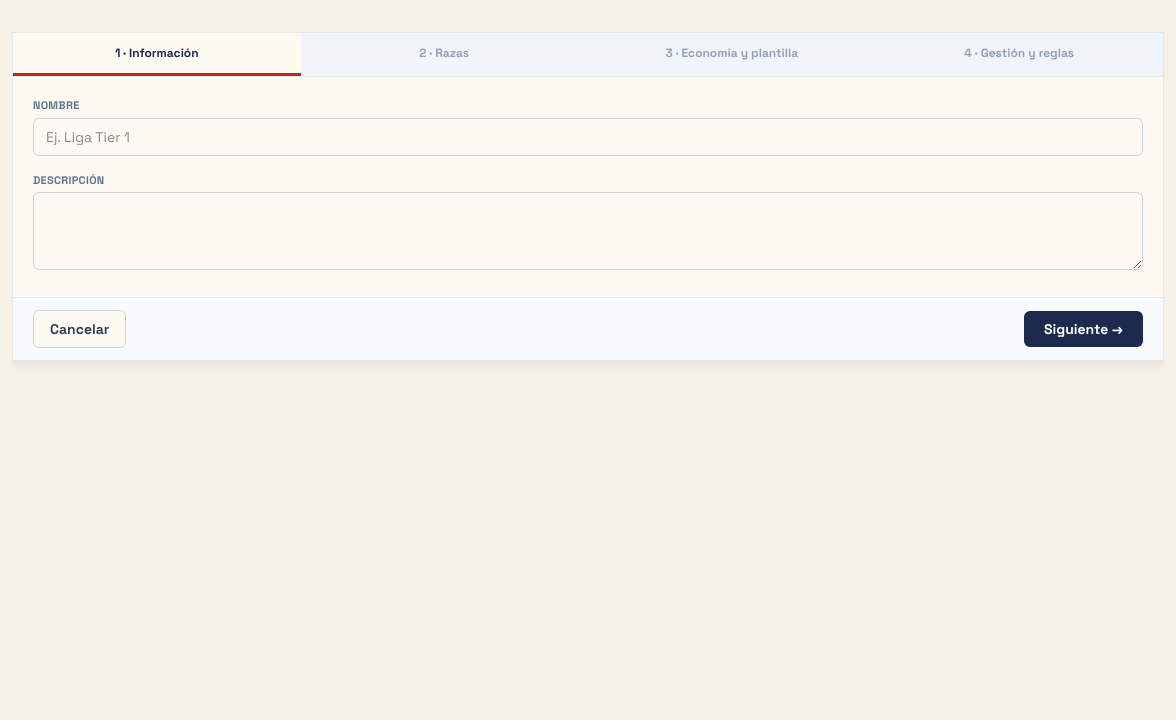
Test: RulesetEditor › create mode can go back with ← Atrás and keeps the draft
Step 1. Type "Liga Tier 1" into the field labelled "Nombre" → (588, 136), box [33,118,1143,156]
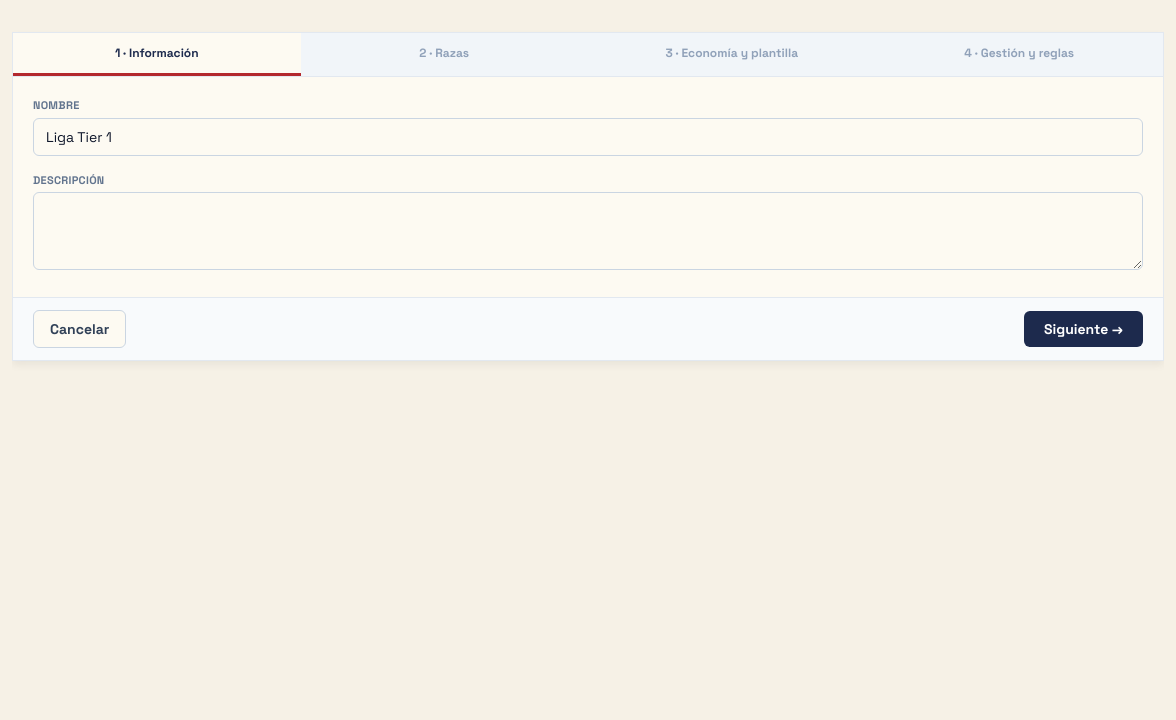
Step 2. Click the button "Siguiente →" → (1084, 329), box [1024,311,1143,347]
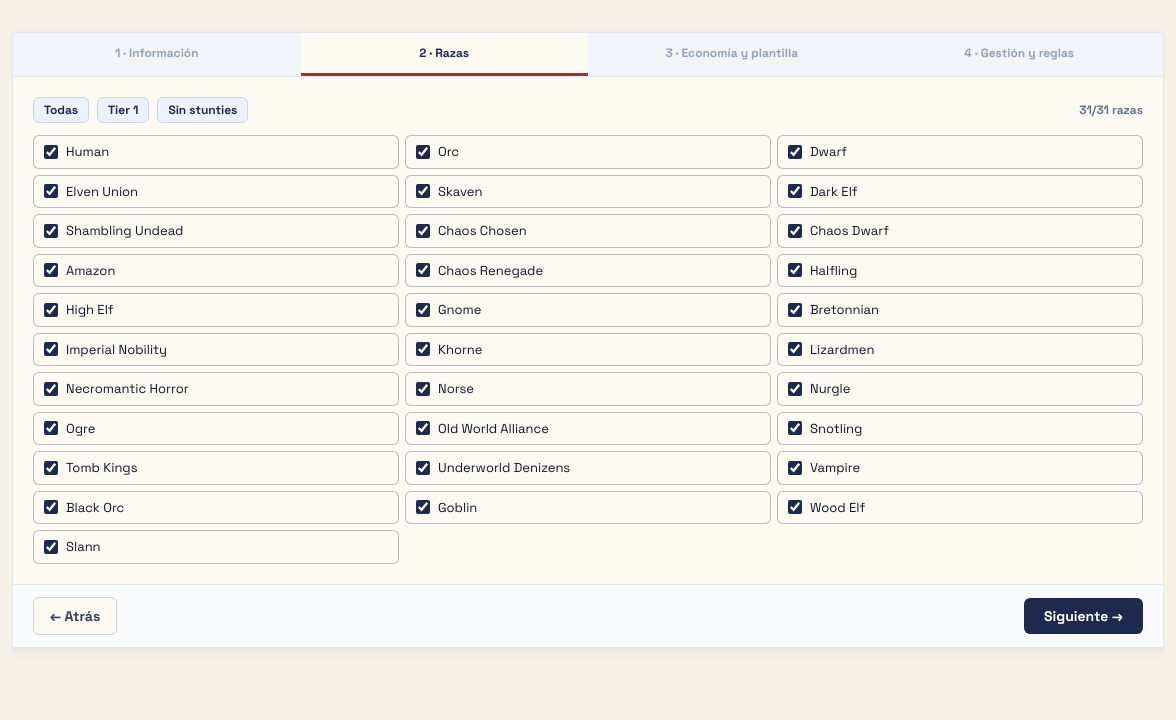
Result: the checkbox labelled "Human" is shown at [44,145,58,159]
Step 3. Click the button "← Atrás" → (75, 616), box [33,596,117,634]
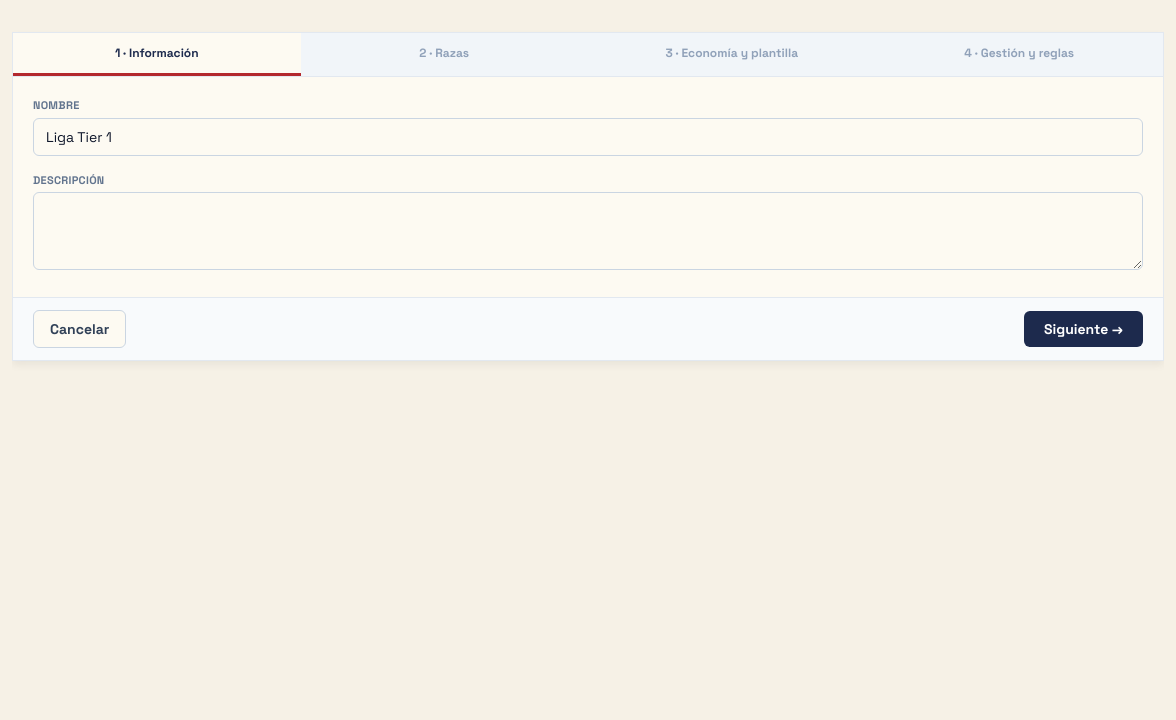
Result: the field labelled "Nombre" holds "Liga Tier 1" at [33,118,1143,156]
